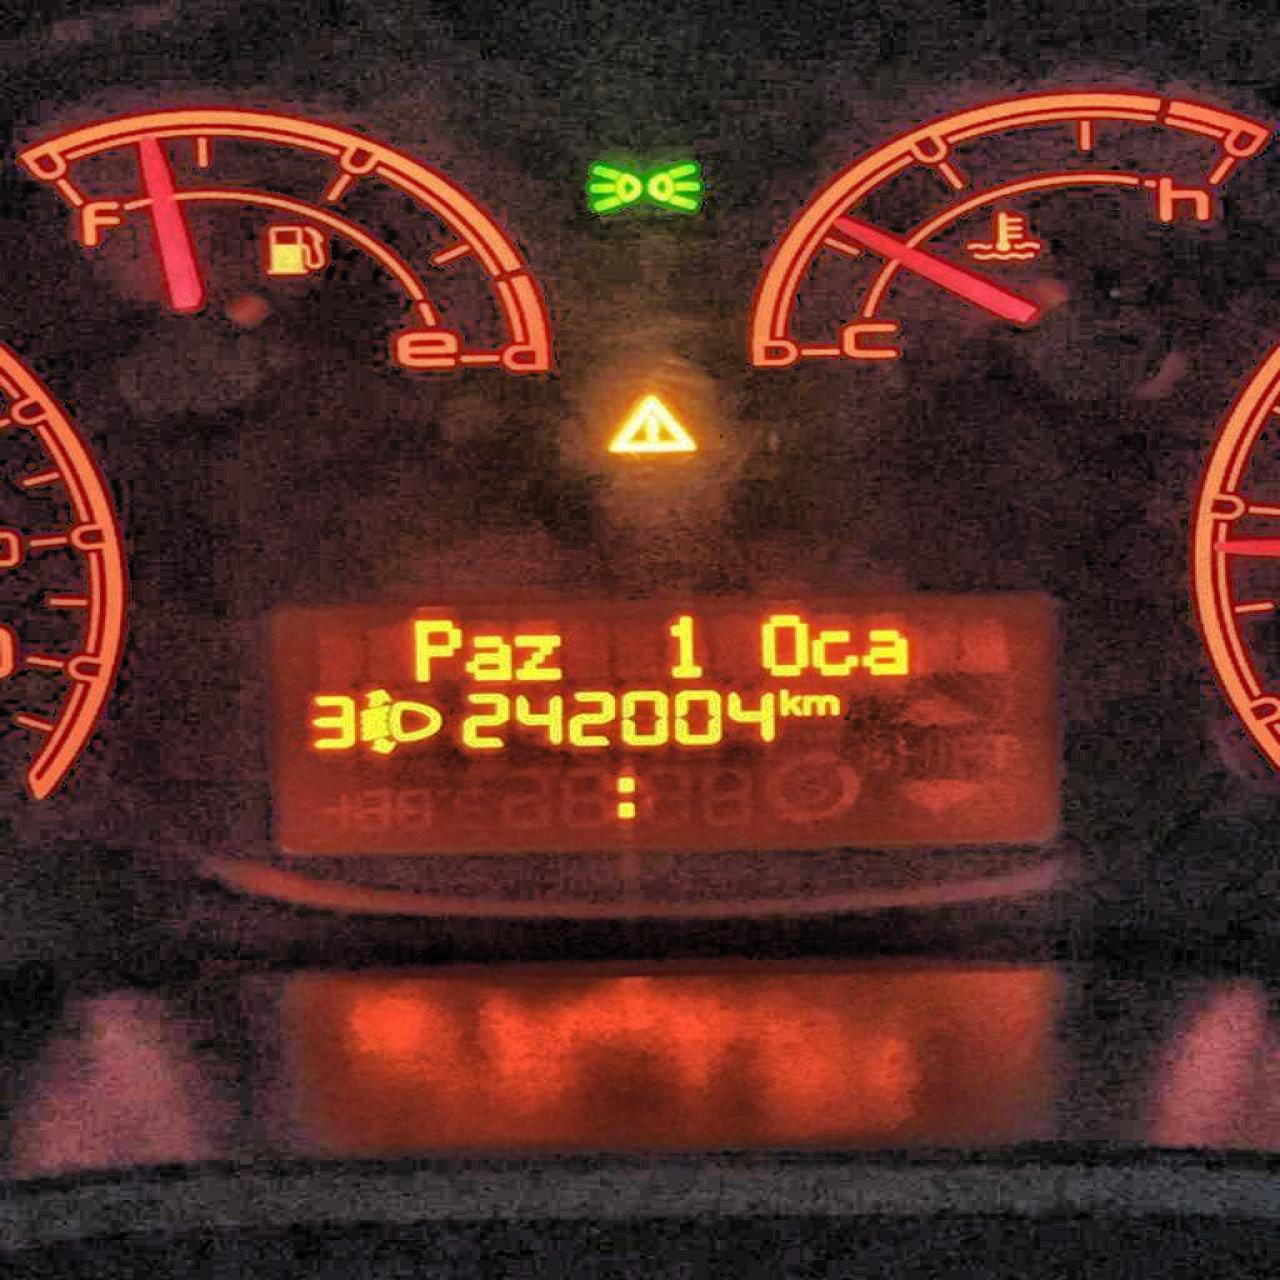0: (619, 686, 668, 749), (672, 688, 719, 748)
1: (663, 607, 710, 687)
2: (458, 690, 509, 754), (568, 687, 614, 753)
3: (308, 693, 359, 751)
4: (722, 679, 776, 749), (511, 686, 566, 753)
X: (408, 614, 459, 685), (758, 610, 806, 679), (862, 627, 911, 676), (810, 627, 858, 678), (513, 632, 561, 680), (463, 633, 510, 682), (608, 770, 641, 829), (799, 692, 840, 717), (777, 686, 801, 716)
odometer: (260, 593, 1067, 858)
